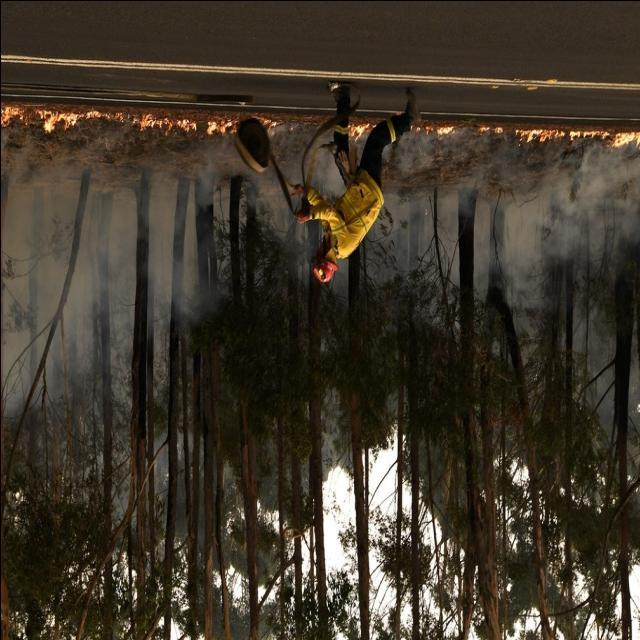Fire: (514, 128, 638, 150), (35, 110, 103, 134), (136, 116, 199, 135), (414, 123, 456, 140), (206, 117, 232, 138), (2, 104, 21, 128), (348, 122, 376, 136), (477, 125, 503, 135)
